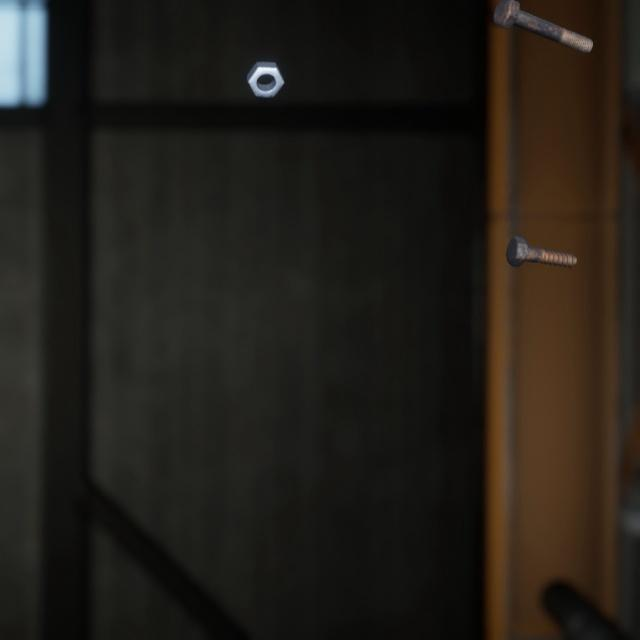bolt: (488, 0, 597, 49), (501, 215, 581, 256)
nut: (242, 45, 288, 90)
